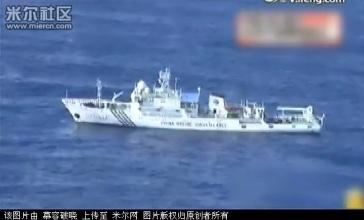warship: (62, 69, 328, 136)
